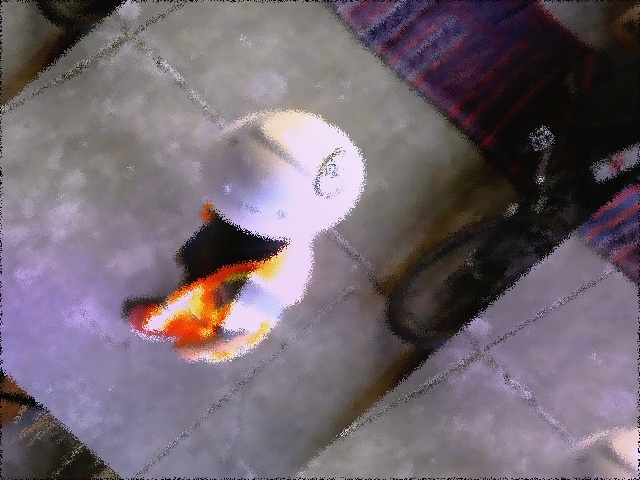three: (304, 147, 363, 200)
